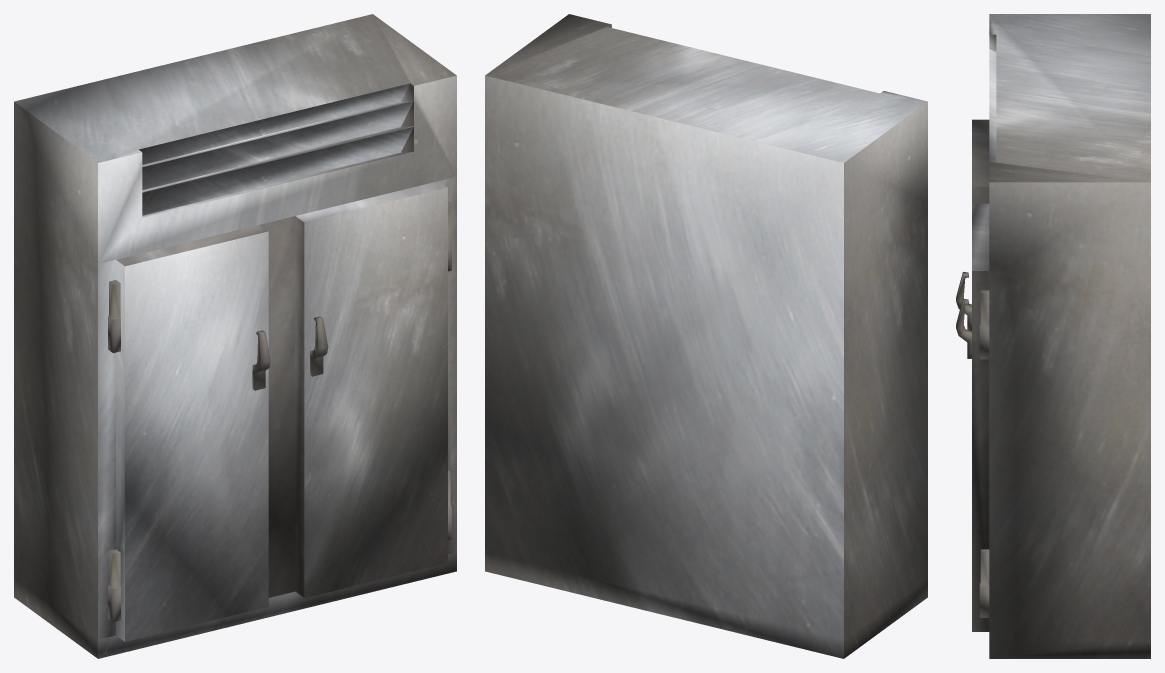
Rendered from Freezer_Galley.obj.
3 views of the same model, side by side, from view 1: azimuth 30°, elevation 25°; view 2: azimuth 150°, elevation 25°; view 3: azimuth 270°, elevation 25° (orthographic). The views are drawn at different scales.
Parts seen in each view (by area): view 1: Freezer_Galley.obj; view 2: Freezer_Galley.obj; view 3: Freezer_Galley.obj.
Part boxes in pixels (x1,y1,x2,y2): Freezer_Galley.obj: [14, 14, 456, 658]; Freezer_Galley.obj: [485, 14, 927, 658]; Freezer_Galley.obj: [956, 14, 1150, 658].
Size of the model in its own units: 11.03 by 14.57 by 5.4.
